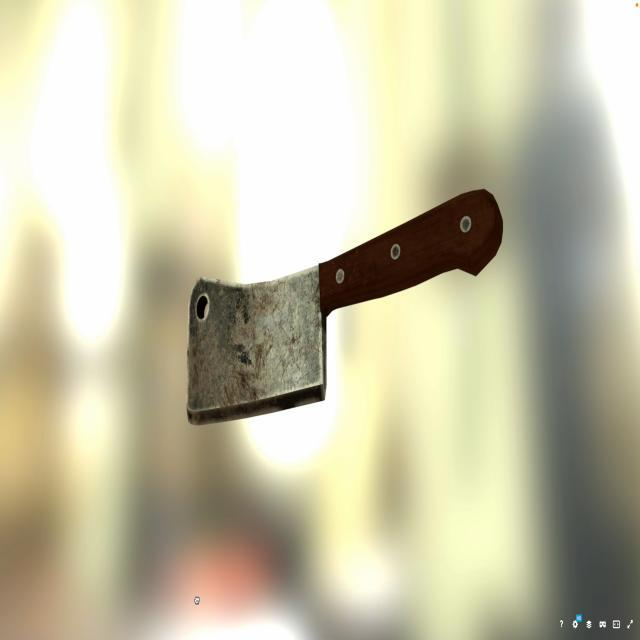cleaver: (180, 183, 503, 435)
